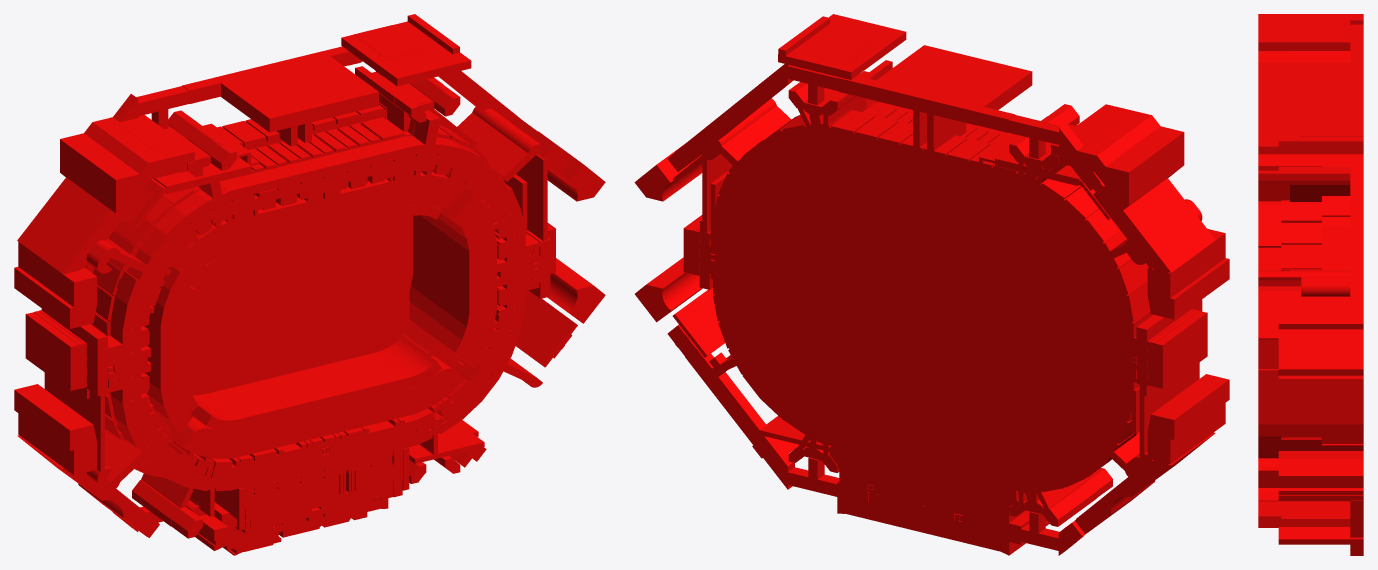
The picture shows the model from 3 angles, left to right: view 1: azimuth 30°, elevation 25°; view 2: azimuth 150°, elevation 25°; view 3: azimuth 270°, elevation 25°; orthographic projection. The views are drawn at different scales.
Parts seen in each view (by area): view 1: mesh; view 2: mesh; view 3: mesh.
Part boxes in pixels (x1,y1,x2,y2): mesh: [14, 14, 605, 555]; mesh: [634, 14, 1229, 555]; mesh: [1258, 14, 1363, 555].
Bounding box in the file's own units: 288769 × 230247 × 51200.
